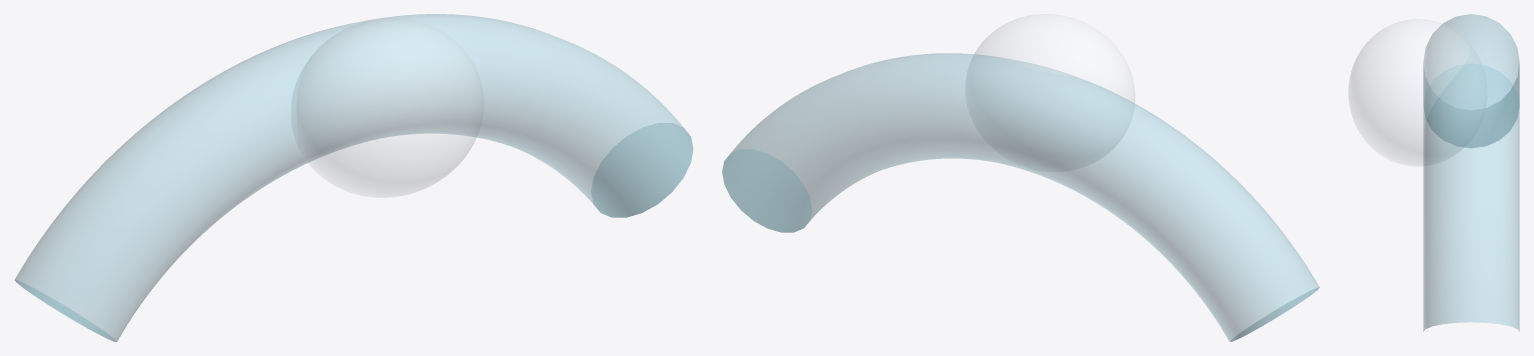
The picture shows the model from 3 angles, left to right: view 1: azimuth 30°, elevation 25°; view 2: azimuth 150°, elevation 25°; view 3: azimuth 270°, elevation 25°; orthographic projection. The views are drawn at different scales.
Visible parts, largest first — view 1: curved-guide, thumb; view 2: curved-guide, thumb; view 3: curved-guide, thumb.
Boxes of the visible parts, bbox=[...] form: curved-guide: bbox=[14, 14, 693, 341]; thumb: bbox=[296, 18, 483, 197]; curved-guide: bbox=[722, 53, 1319, 341]; thumb: bbox=[975, 14, 1134, 103]; curved-guide: bbox=[1423, 14, 1519, 331]; thumb: bbox=[1348, 19, 1469, 166].
Size of the model in its own units: 2.29 by 0.8977 by 0.64.
